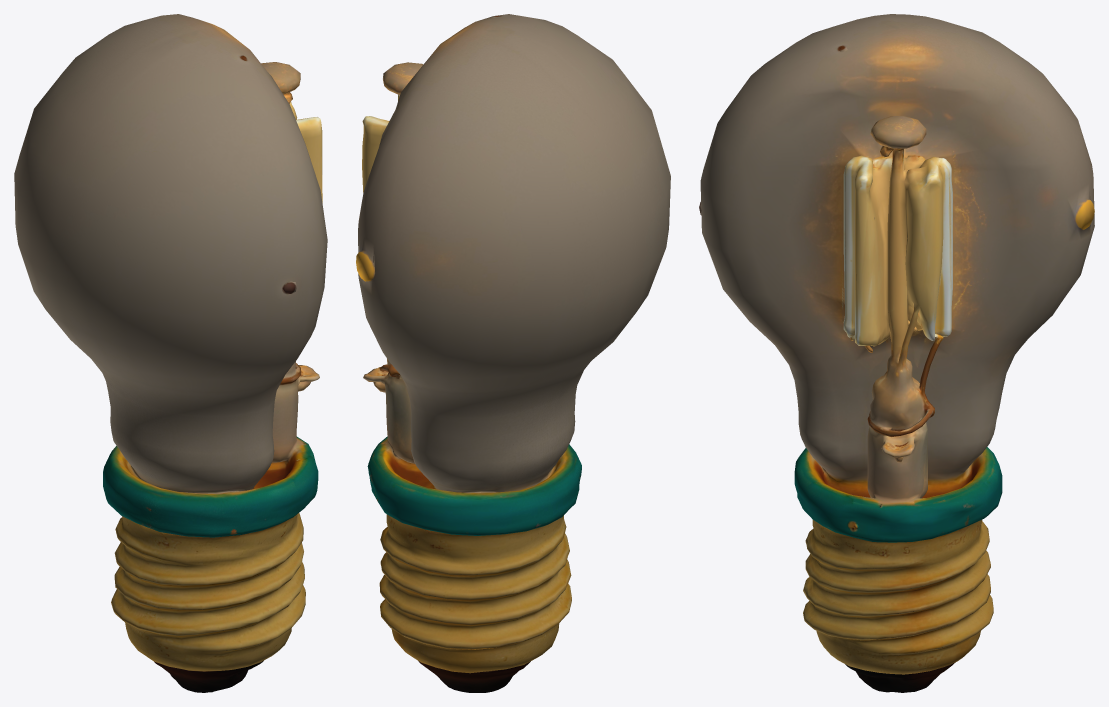
3 views of the same model, side by side, from view 1: azimuth 30°, elevation 25°; view 2: azimuth 150°, elevation 25°; view 3: azimuth 270°, elevation 25° (orthographic).
Visible parts, largest first — view 1: tripo_node_2a1b8157-5bc1-43d8-bfbd-e90374639522; view 2: tripo_node_2a1b8157-5bc1-43d8-bfbd-e90374639522; view 3: tripo_node_2a1b8157-5bc1-43d8-bfbd-e90374639522.
Boxes of the visible parts, x1,y1,x2,y2 form: tripo_node_2a1b8157-5bc1-43d8-bfbd-e90374639522: (14, 14, 327, 692); tripo_node_2a1b8157-5bc1-43d8-bfbd-e90374639522: (356, 14, 670, 692); tripo_node_2a1b8157-5bc1-43d8-bfbd-e90374639522: (699, 14, 1094, 692).
Size of the model in its own units: 0.0526 by 0.12 by 0.0662.
Materials: 1 (1 with a texture image).
